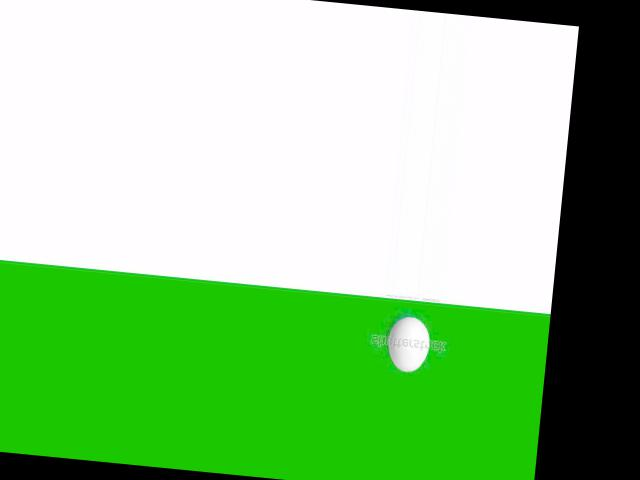egg: (385, 315, 431, 373)
